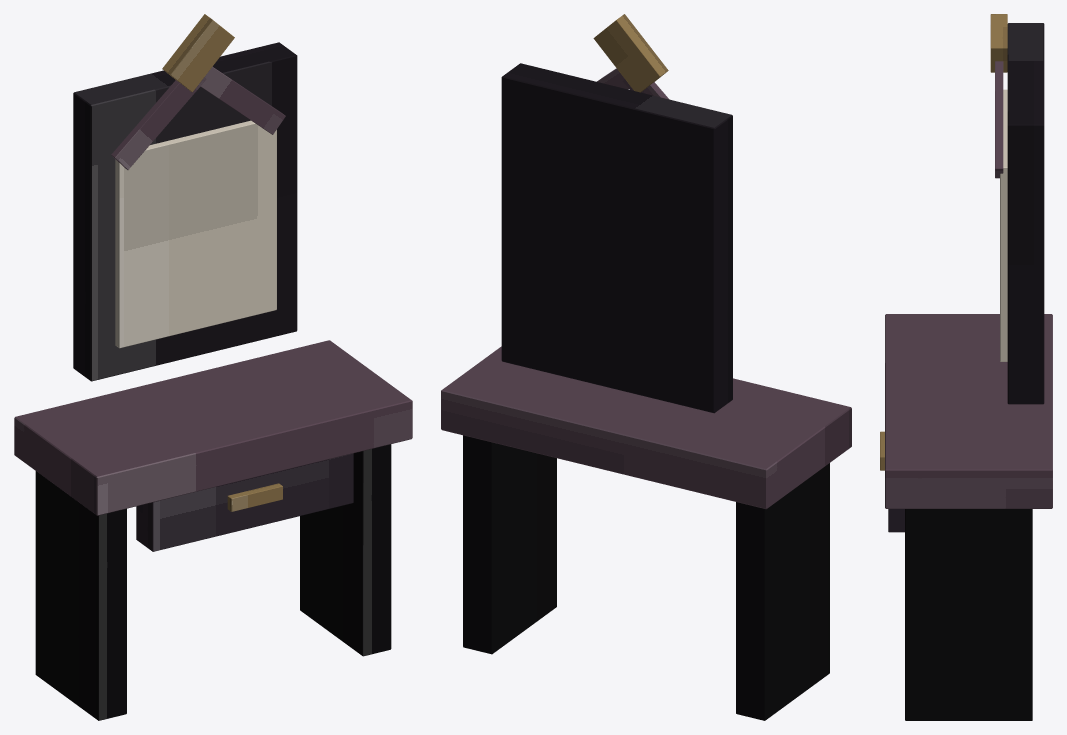
The model's file is gothic_vanity_crimson.glb.
3 renders of one model, left to right at view 1: azimuth 30°, elevation 25°; view 2: azimuth 150°, elevation 25°; view 3: azimuth 270°, elevation 25°, orthographic. The views are drawn at different scales.
Parts seen in each view (by area): view 1: VanityTop, MirrorGlass, MirrorBack, VanityLeg-0.46, VanityLeg0.46, VanityDrawer, MirrorSpire, MirrorArchLeft, MirrorArchRight, VanityPull; view 2: MirrorBack, VanityTop, VanityLeg-0.46, VanityLeg0.46, MirrorSpire; view 3: VanityTop, VanityLeg0.46, MirrorBack, MirrorGlass, MirrorArchRight, MirrorSpire, VanityDrawer.
Part boxes in pixels (bbox=[...]): VanityTop: bbox=[14, 340, 412, 515]; MirrorGlass: bbox=[115, 120, 276, 348]; MirrorBack: bbox=[73, 42, 297, 381]; VanityLeg-0.46: bbox=[35, 471, 126, 720]; VanityLeg0.46: bbox=[300, 444, 391, 656]; VanityDrawer: bbox=[136, 453, 353, 551]; MirrorSpire: bbox=[162, 14, 234, 92]; MirrorArchLeft: bbox=[111, 77, 206, 169]; MirrorArchRight: bbox=[198, 66, 285, 134]; VanityPull: bbox=[227, 483, 282, 511]; MirrorBack: bbox=[501, 63, 732, 413]; VanityTop: bbox=[441, 346, 851, 509]; VanityLeg-0.46: bbox=[736, 463, 829, 720]; VanityLeg0.46: bbox=[463, 435, 556, 654]; MirrorSpire: bbox=[593, 14, 668, 92]; VanityTop: bbox=[885, 314, 1052, 508]; VanityLeg0.46: bbox=[905, 509, 1032, 720]; MirrorBack: bbox=[1007, 23, 1044, 404]; MirrorGlass: bbox=[1000, 89, 1007, 361]; MirrorArchRight: bbox=[995, 61, 1003, 178]; MirrorSpire: bbox=[990, 14, 1007, 72]; VanityDrawer: bbox=[888, 509, 904, 532].
Bounding box in the file's own units: 1.1 × 2.1 × 0.5145.
1 material, 1 textured.
